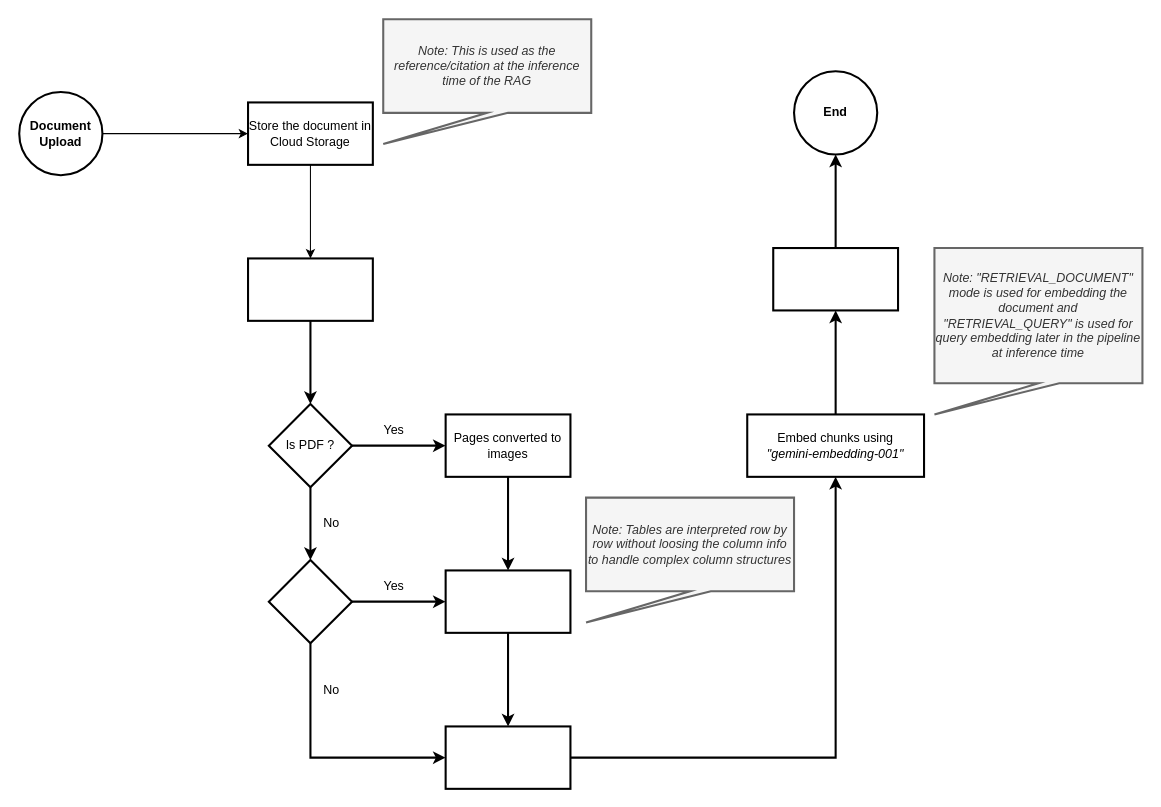
The diagram is 1161 pixels wide and 807 high, and some of its shapes have lost their labels. Each missing label, with the centre of its shape:
"Chunk texts (with overlapping)" belongs at point 507,757.
"Insert into Vertex AI Vector Search" belongs at point 835,278.
"Interpret as text using Gemini multi-modal capabilities" belongs at point 507,601.
"Is Image ?" belongs at point 310,601.
"Parsing the document" belongs at point 309,289.
